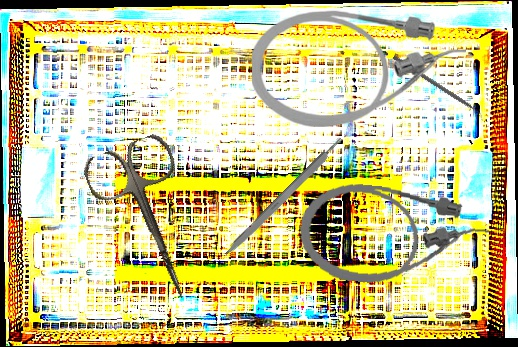Cannula: (252, 10, 466, 127), (294, 178, 493, 295)
Chopper: (389, 54, 487, 124)
Iris Scissors: (79, 130, 222, 315)
Scalpel Handle: (222, 135, 347, 260)
